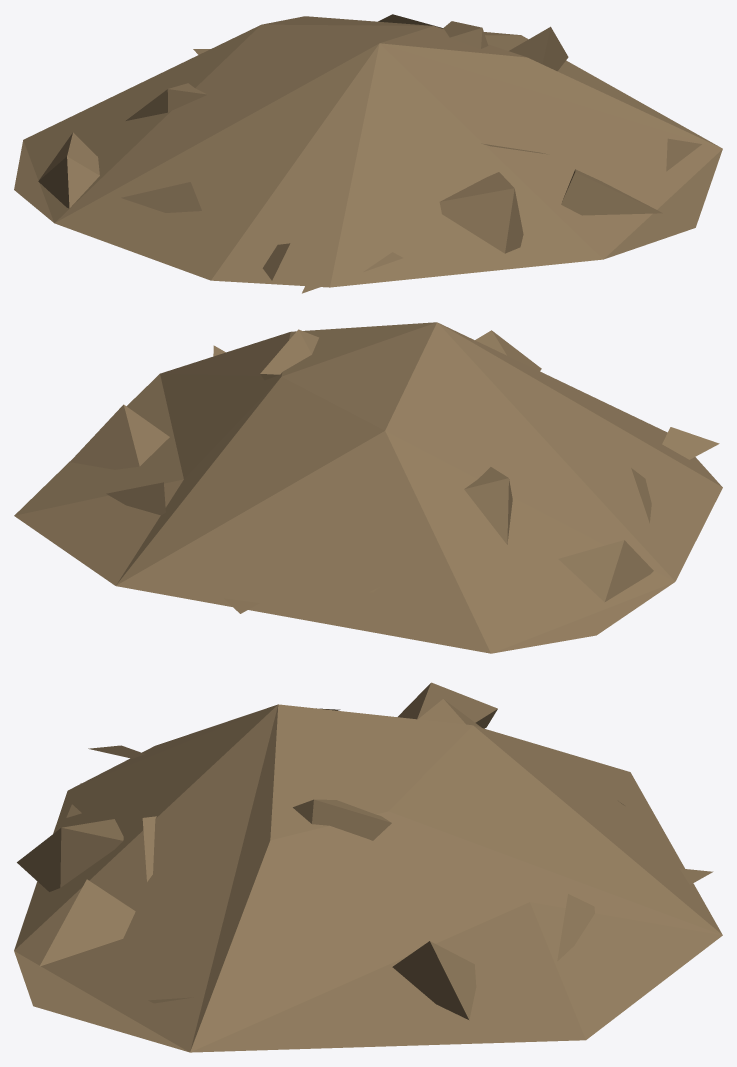
The model's file is skull-pile.lod2.glb.
The picture shows the model from 3 angles, top to bottom: view 1: azimuth 30°, elevation 25°; view 2: azimuth 150°, elevation 25°; view 3: azimuth 270°, elevation 25°; orthographic projection. The views are drawn at different scales.
Visible parts, largest first — view 1: Box001_03 - Default_0; view 2: Box001_03 - Default_0; view 3: Box001_03 - Default_0.
Boxes of the visible parts, bbox=[...] form: Box001_03 - Default_0: bbox=[14, 14, 722, 293]; Box001_03 - Default_0: bbox=[14, 322, 722, 653]; Box001_03 - Default_0: bbox=[14, 682, 722, 1052].
Bounding box in the file's own units: 1.4 × 0.3688 × 1.27.
